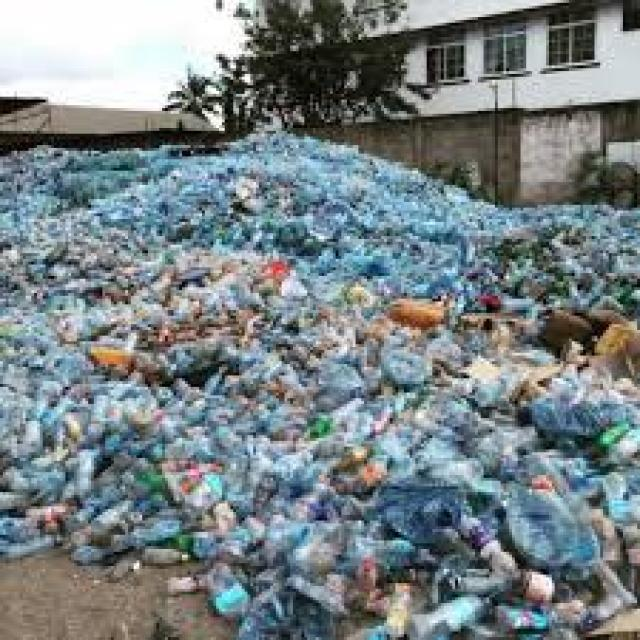heap: (24, 179, 635, 611)
